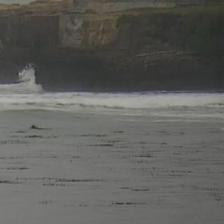surfer: (31, 125, 44, 130)
